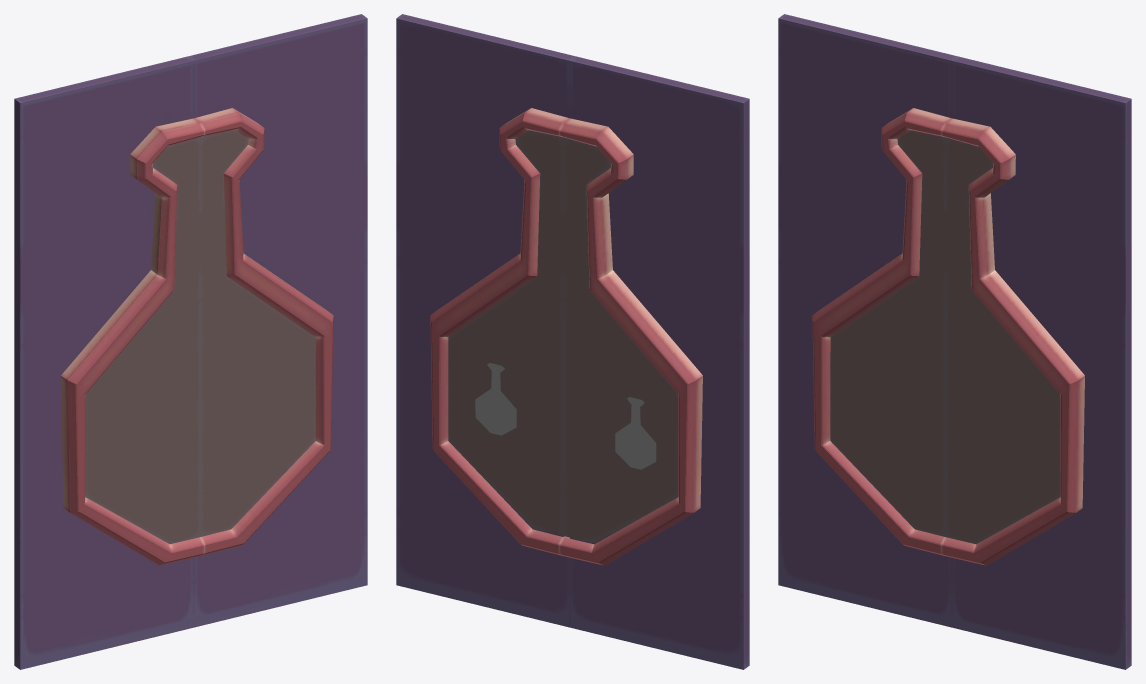
File: jarDoor.fbx
3 views of the same model, side by side, from view 1: azimuth 30°, elevation 25°; view 2: azimuth 150°, elevation 25°; view 3: azimuth 330°, elevation 25° (orthographic).
Visible parts, largest first — view 1: RIGHT, LEFT, Grey.001, Grey, Rim.001, Rim; view 2: RIGHT, LEFT, Grey.001, Grey, Rim.001, Rim, POT_ICON, POT_ICON.001; view 3: LEFT, RIGHT, Grey.001, Grey, Rim, Rim.001.
Part boxes in pixels (x1,y1,x2,y2): RIGHT: [14, 56, 193, 669]; LEFT: [188, 14, 367, 627]; Grey.001: [85, 137, 200, 544]; Grey: [200, 130, 315, 536]; Rim.001: [61, 118, 204, 565]; Rim: [194, 108, 333, 555]; RIGHT: [570, 56, 749, 669]; LEFT: [396, 14, 575, 627]; Grey.001: [563, 137, 678, 543]; Grey: [448, 130, 563, 535]; Rim.001: [559, 118, 702, 565]; Rim: [430, 108, 569, 555]; POT_ICON: [475, 363, 516, 435]; POT_ICON.001: [615, 397, 656, 469]; LEFT: [952, 56, 1131, 669]; RIGHT: [778, 14, 957, 627]; Grey.001: [830, 130, 945, 536]; Grey: [945, 137, 1060, 544]; Rim: [941, 118, 1084, 565]; Rim.001: [812, 108, 951, 555].
Size of the model in its own units: 650 by 1014 by 87.36.
Materials: 2 (1 with a texture image).
